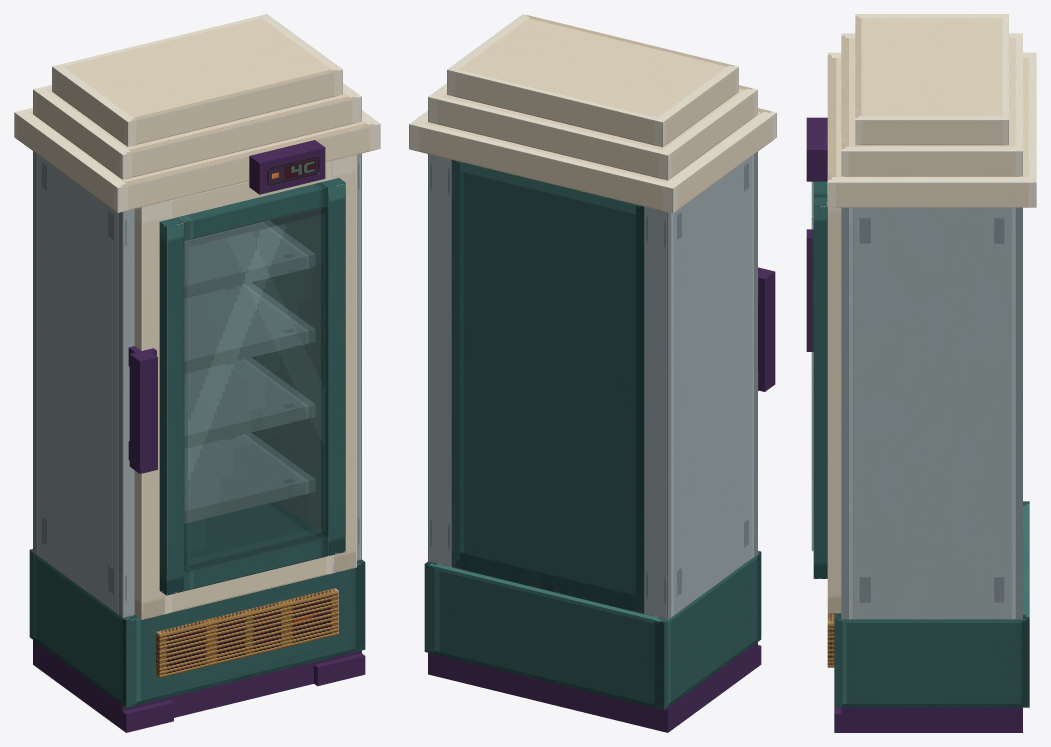
File: vaccine-fridge.glb
3 renders of one model, left to right at view 1: azimuth 30°, elevation 25°; view 2: azimuth 150°, elevation 25°; view 3: azimuth 270°, elevation 25°, orthographic.
Visible parts, largest first — view 1: glass, left_cheek, crown_top, condenser_base, right_cheek, crown_middle, crown_lower, door_left, door_right, grille, outer_left, shelf_0 (+15 smaller); view 2: rear_wall, left_cheek, condenser_base, crown_top, crown_lower, crown_middle, right_cheek, plinth, handle; view 3: right_cheek, crown_top, condenser_base, crown_lower, crown_middle, outer_right, door_right, plinth, display, glass, handle, right_foot (+1 smaller).
Boxes of the visible parts, <box> form: glass: <box>184,206,328,572</box>; left_cheek: <box>33,151,134,617</box>; crown_top: <box>52,14,342,146</box>; condenser_base: <box>29,549,365,707</box>; right_cheek: <box>255,153,361,560</box>; crown_middle: <box>33,83,361,179</box>; crown_lower: <box>14,107,380,212</box>; door_left: <box>159,217,184,595</box>; door_right: <box>321,178,345,555</box>; grille: <box>156,588,338,677</box>; outer_left: <box>134,201,165,619</box>; shelf_0: <box>184,433,315,523</box>; rear_wall: <box>452,160,643,613</box>; left_cheek: <box>644,152,757,619</box>; condenser_base: <box>424,551,761,710</box>; crown_top: <box>447,14,738,147</box>; crown_lower: <box>409,108,776,213</box>; crown_middle: <box>428,83,757,180</box>; right_cheek: <box>428,154,451,567</box>; plinth: <box>428,642,757,732</box>; handle: <box>758,267,775,391</box>; right_cheek: <box>841,207,1022,619</box>; crown_top: <box>855,14,1008,145</box>; condenser_base: <box>834,501,1029,707</box>; crown_lower: <box>827,52,1036,207</box>; crown_middle: <box>841,33,1022,176</box>; outer_right: <box>827,207,841,613</box>; door_right: <box>813,197,827,578</box>; plinth: <box>841,707,1022,732</box>; display: <box>806,117,827,181</box>; glass: <box>811,181,813,551</box>; handle: <box>806,229,813,351</box>; right_foot: <box>834,707,876,732</box>.
Size of the model in its own units: 1.38 by 3 by 1.04.
Materials: 4 (3 with a texture image).
